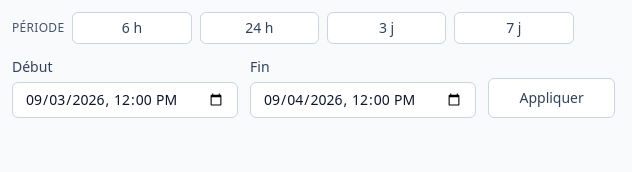
Test: TimeRangePicker · bornes explicites › refuse une période vide
Step 1. Replace the text in the field labelled "Début" with "2026-09-02T08:00" → [125, 100], box [12,82,238,118]
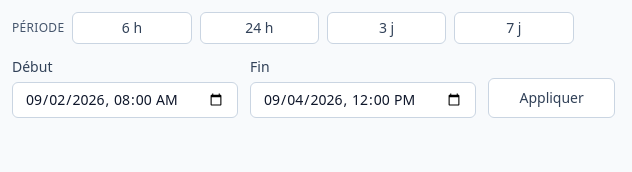
Step 2. Replace the text in the field labelled "Fin" with "2026-09-02T08:00" → [363, 100], box [250,82,476,118]
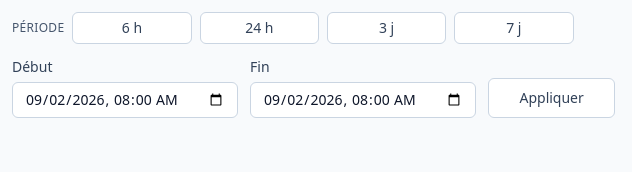
Step 3. Click the button "Appliquer" → [552, 98], box [488,78,615,118]
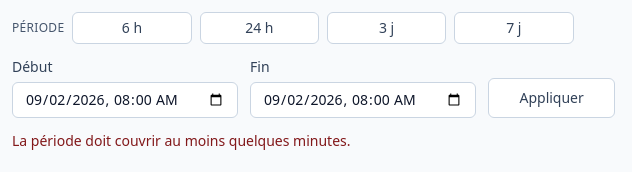
Expected: the message shows "au moins quelques minutes", [12,131,350,150]
